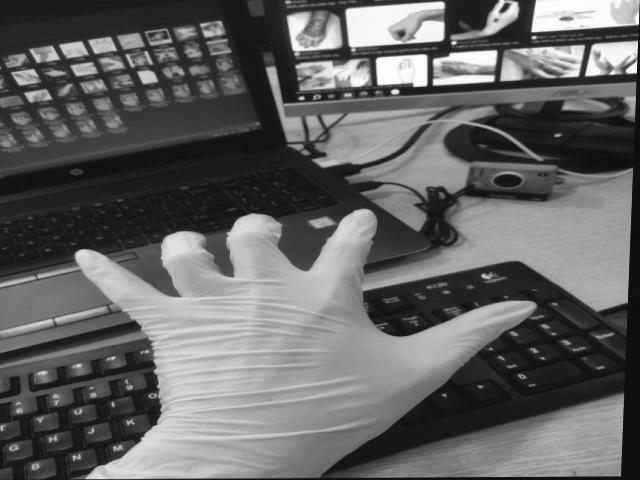gloved: (74, 212, 528, 463)
